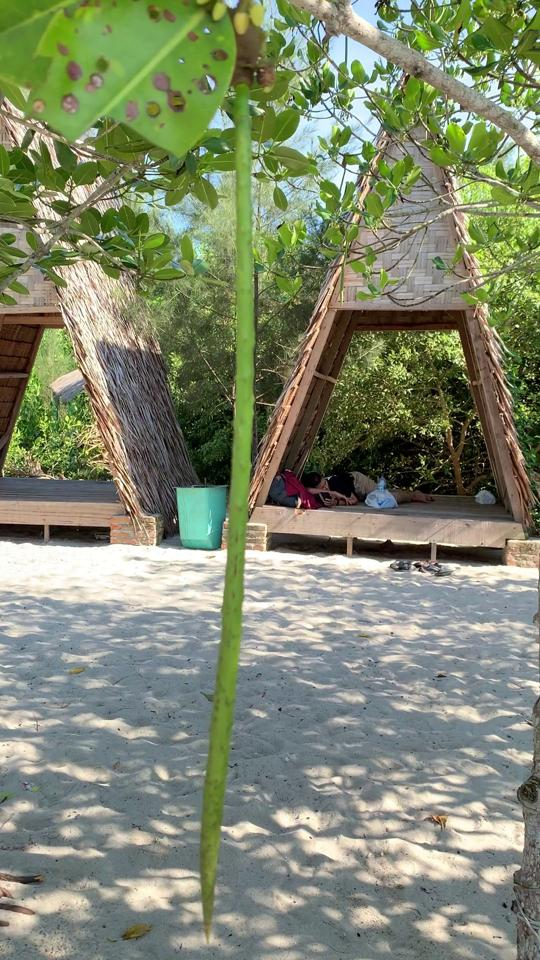mentah: (180, 14, 282, 951)
